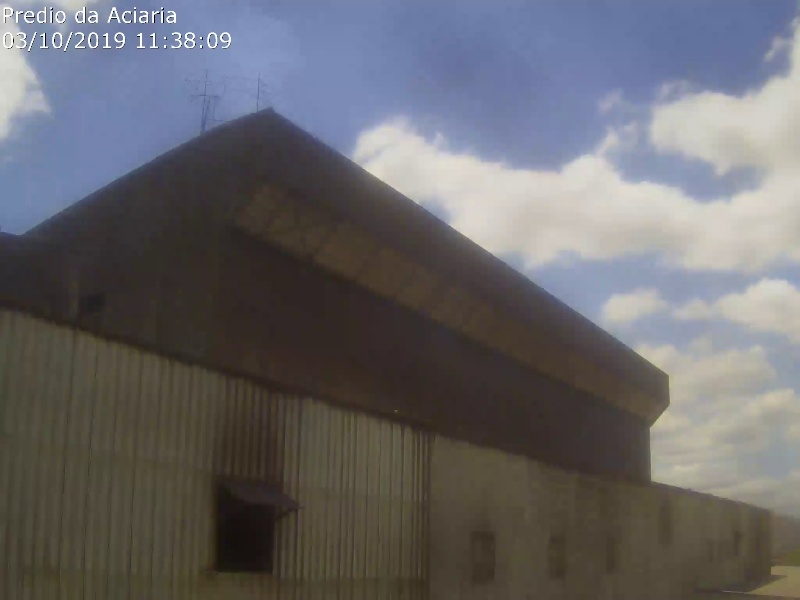bom: (260, 38, 699, 435), (13, 14, 269, 212)
